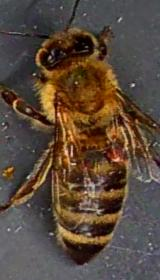varroa_mite: (99, 136, 126, 165)
